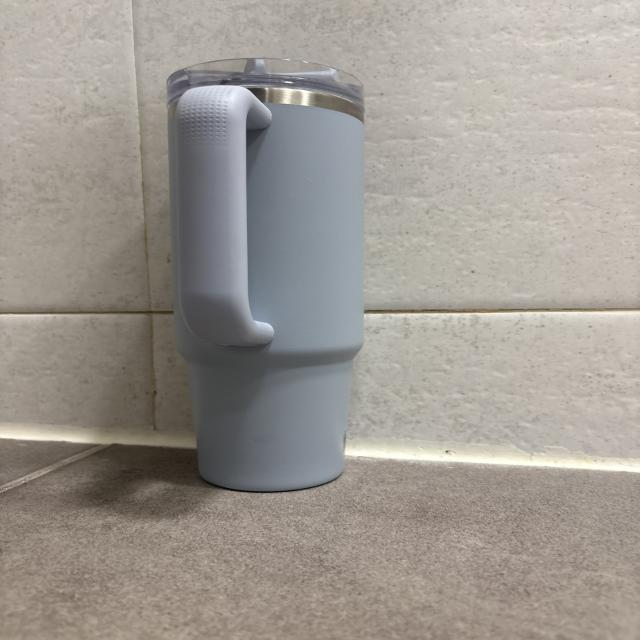waterbottle: (165, 56, 364, 493)
